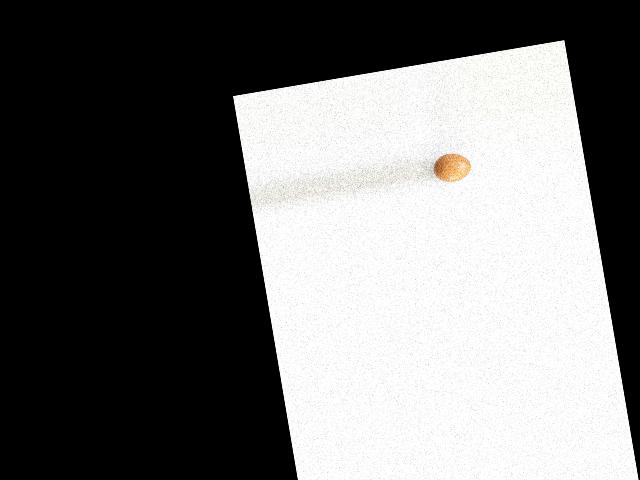egg: (430, 149, 473, 184)
